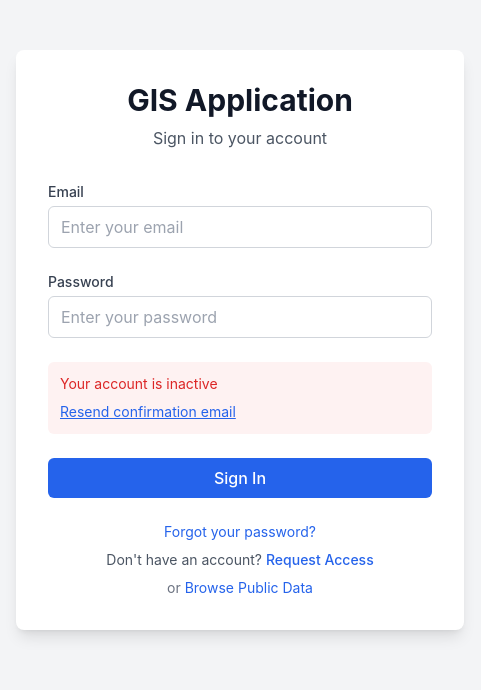
LoginPage › should show error when resend fails
Type "test@example.com" into the field labelled "Email".
click(240, 227); type("test@example.com")  # box [48,206,432,248]
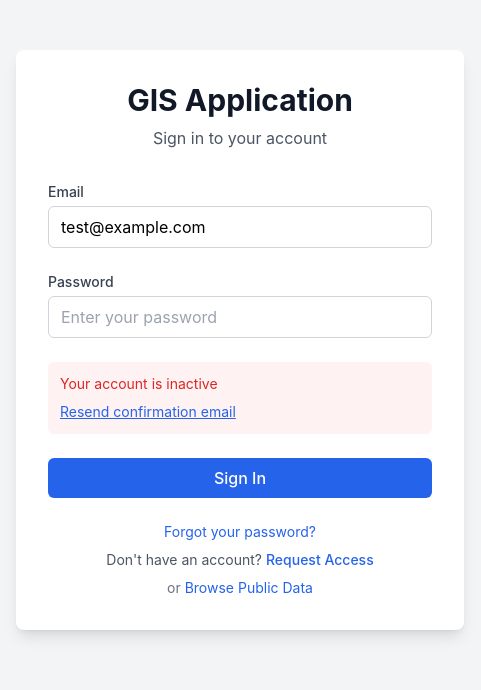
Click the button "Resend confirmation email".
click(148, 412)  # box [60,402,236,422]
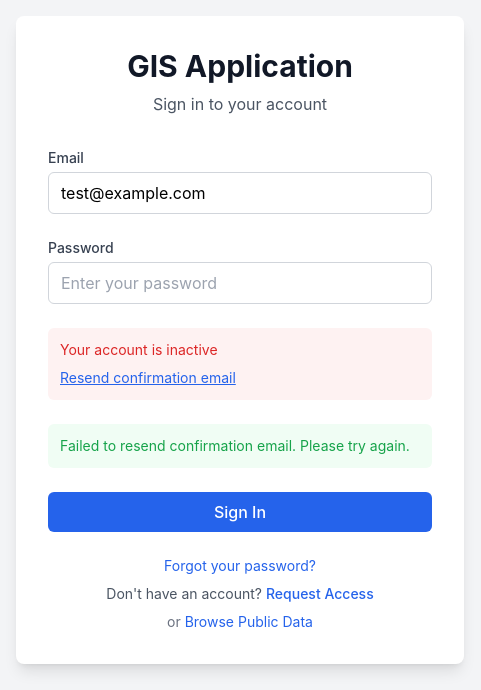
Check: the text "Failed to resend confirmation email. Please try again." is shown, box [48,424,432,468]
